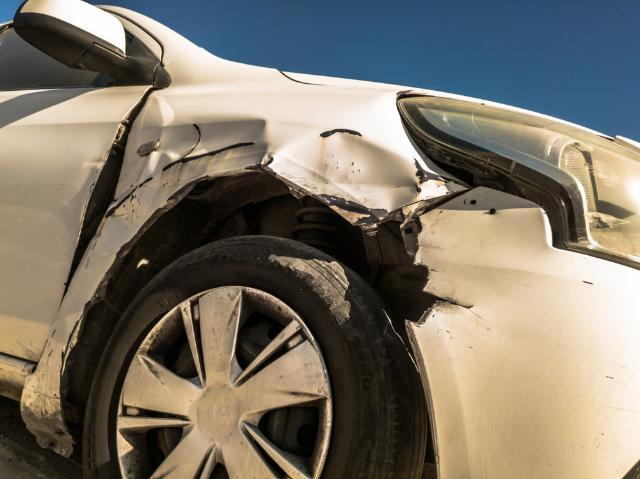crack: (417, 290, 474, 323)
dent: (140, 118, 420, 228)
dislocated part: (33, 88, 155, 369)
